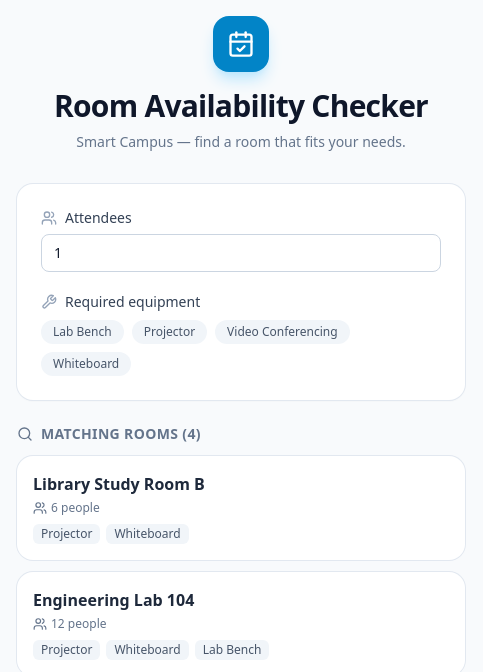
App integration › filters by attendee count: raising to 12 narrows results
Replace the text in the number field labelled "Attendees" with "12": (241, 253) [41,234,441,272]
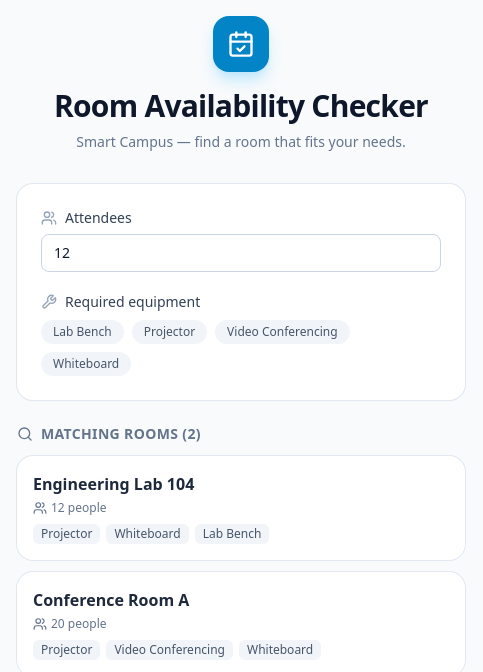
Expected: the text "Engineering Lab 104" is shown, [33,472,194,496]
Expected: the heading "Matching rooms (2)" is shown, [17,424,201,443]
Expected: the button "Library Study Room B" is gone
